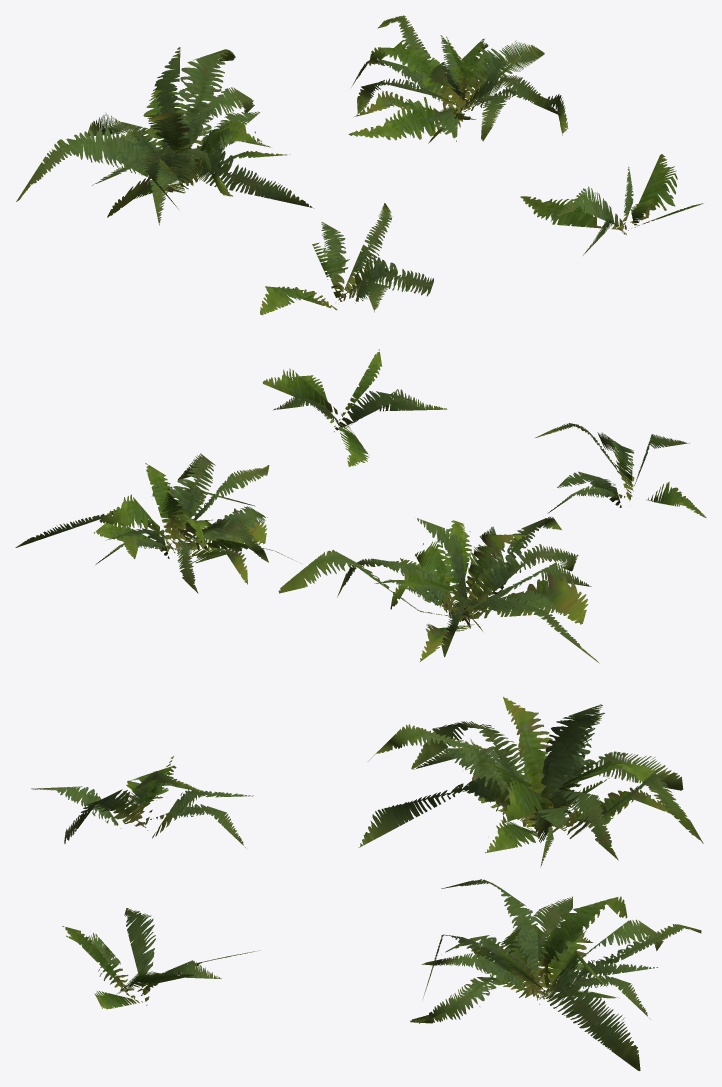
The model's file is fern_02.glb.
3 views of the same model, one above another, from view 1: azimuth 30°, elevation 25°; view 2: azimuth 150°, elevation 25°; view 3: azimuth 270°, elevation 25° (orthographic). The views are drawn at different scales.
Visible parts, largest first — view 1: fern_02_b; view 2: fern_02_b; view 3: fern_02_b.
Part boxes in pixels (x1=…): fern_02_b: x1=16, y1=15, x2=703, y2=315; fern_02_b: x1=15, y1=349, x2=706, y2=663; fern_02_b: x1=31, y1=697, x2=703, y2=1070.
Size of the model in its own units: 1.97 by 0.4246 by 1.72.
Materials: 1 (1 with a texture image).
